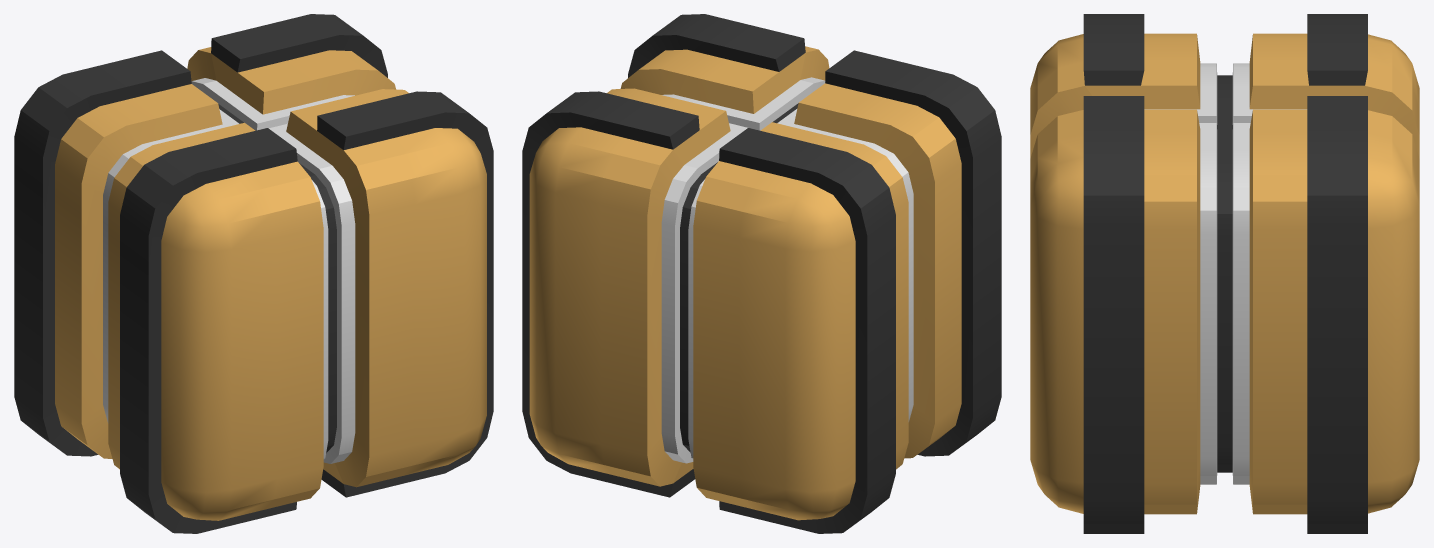
File: Crate.fbx
The picture shows the model from 3 angles, left to right: view 1: azimuth 30°, elevation 25°; view 2: azimuth 150°, elevation 25°; view 3: azimuth 270°, elevation 25°; orthographic projection. The views are drawn at different scales.
Visible parts, largest first — view 1: Cube; view 2: Cube; view 3: Cube.
Boxes of the visible parts, <box> form: Cube: <box>14,14,493,533</box>; Cube: <box>522,14,1001,533</box>; Cube: <box>1030,14,1419,533</box>.
Bounding box in the file's own units: 343 × 343 × 317.
